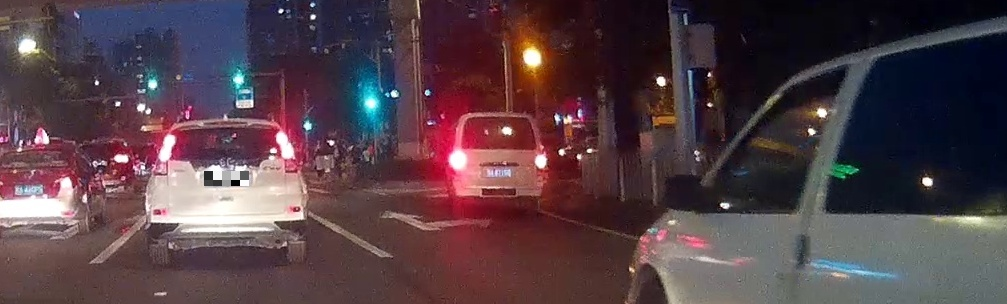L_light: (152, 134, 175, 175), (450, 149, 465, 175)
R_light: (276, 131, 298, 173), (536, 153, 546, 173), (214, 127, 236, 132)
T_light: (491, 116, 506, 121)
night-left: (449, 112, 546, 216)
night-no: (144, 117, 306, 264)
plate_1: (204, 171, 249, 186)
